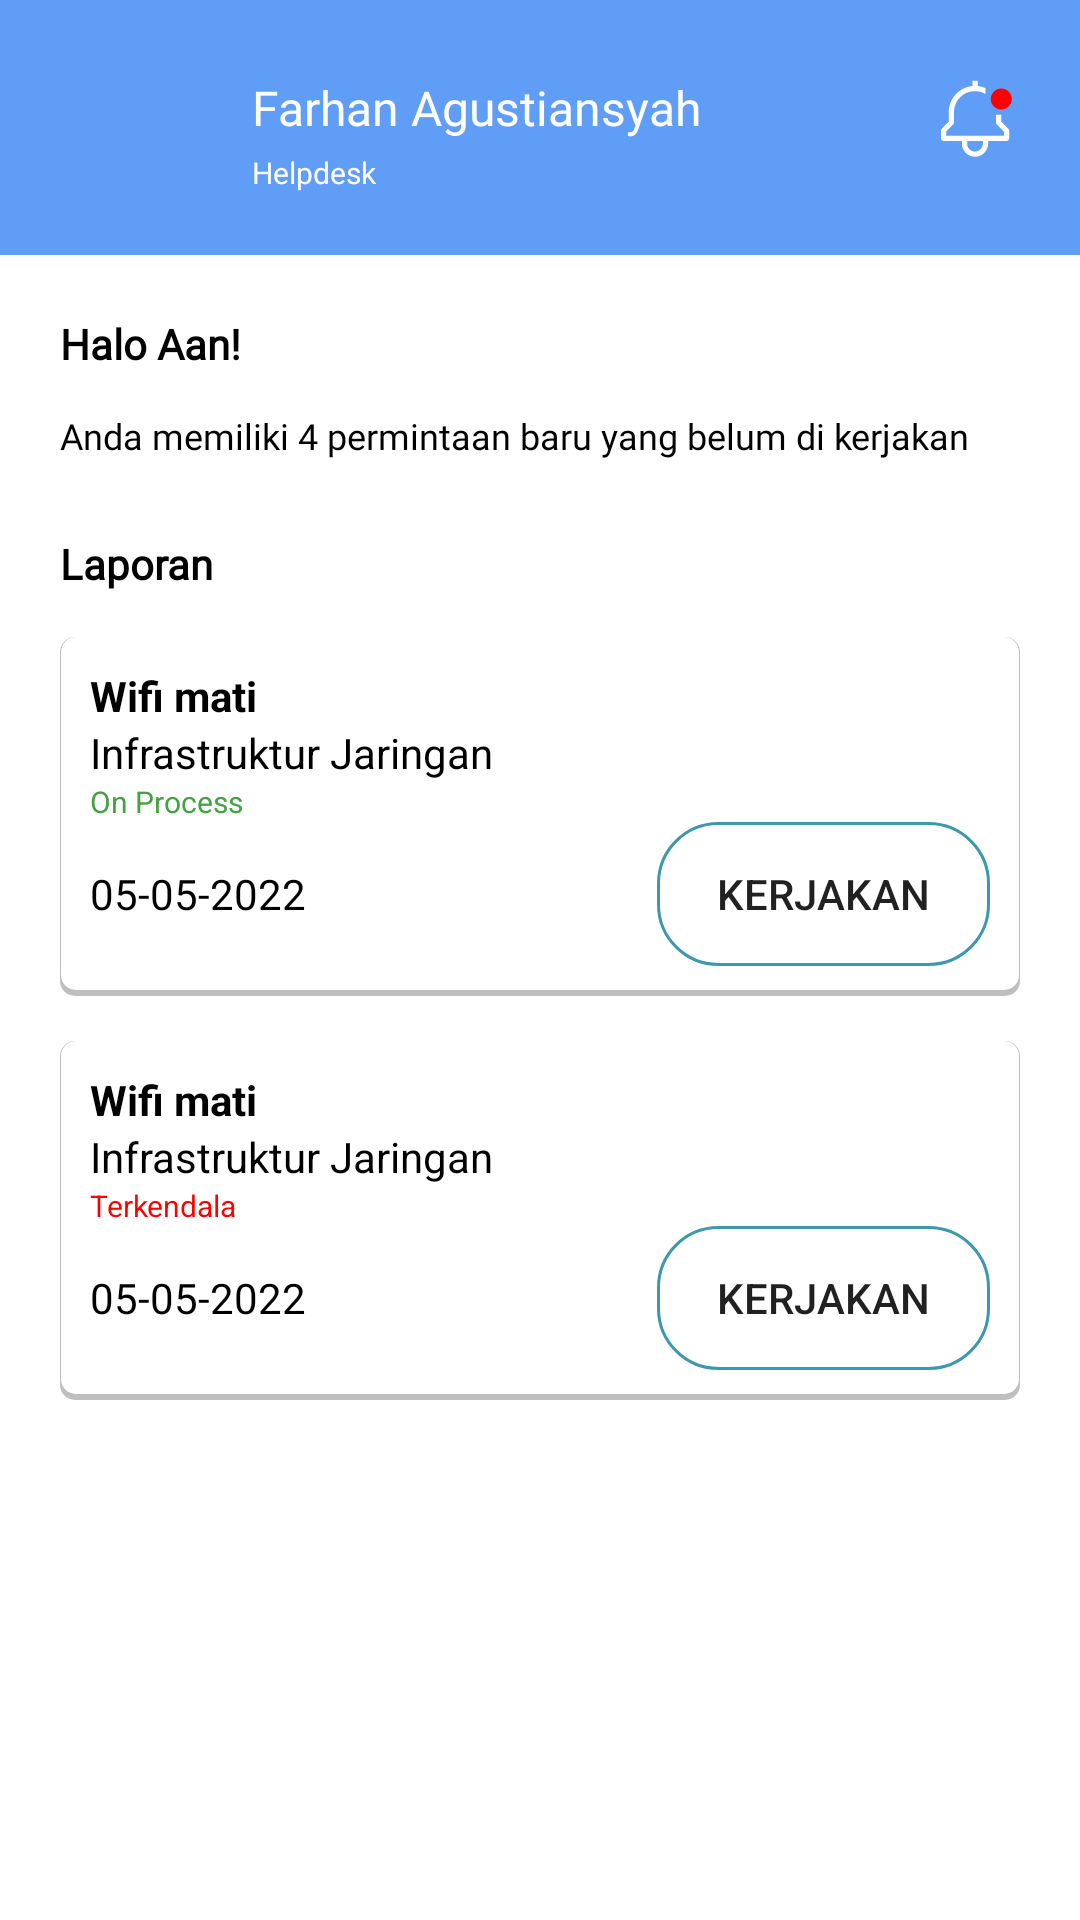

Screen size 1080px×1920px. Icon name, then its box in pixels as (x1, y1, x2, y2):
notification: (941, 80, 1012, 157)
